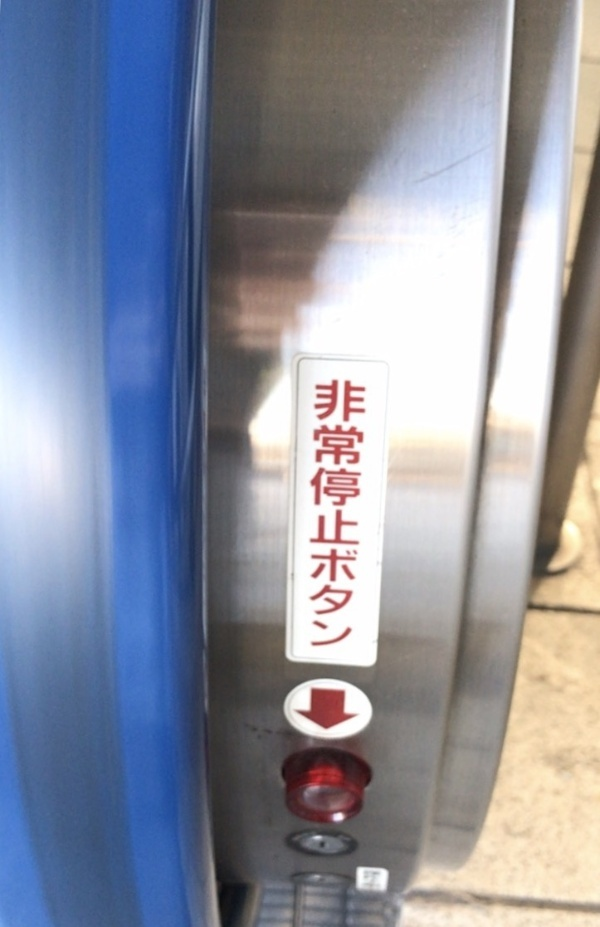text: (321, 379, 336, 655), (337, 379, 352, 655), (353, 379, 368, 655), (314, 379, 320, 655)
